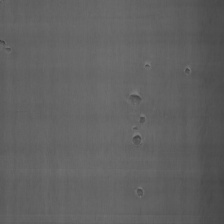rolled_pit: (134, 175, 148, 210), (128, 126, 146, 151), (128, 85, 144, 113), (178, 61, 195, 81), (139, 55, 153, 77), (134, 104, 147, 124)
